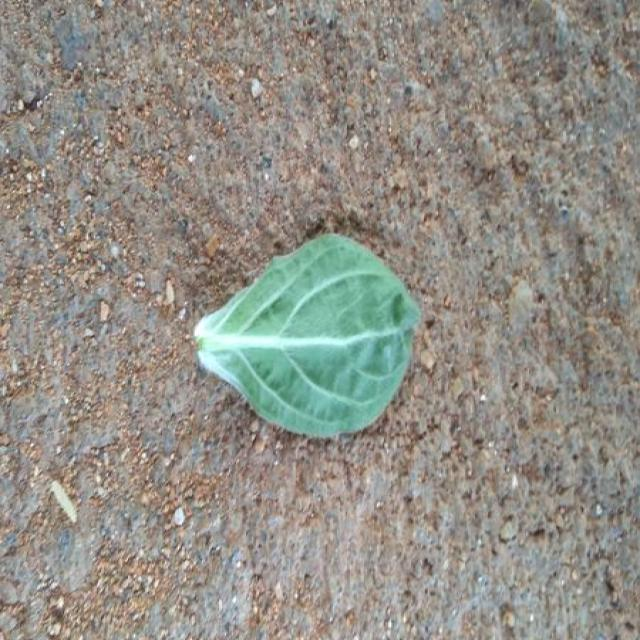globe amarnath: (195, 234, 420, 437)
